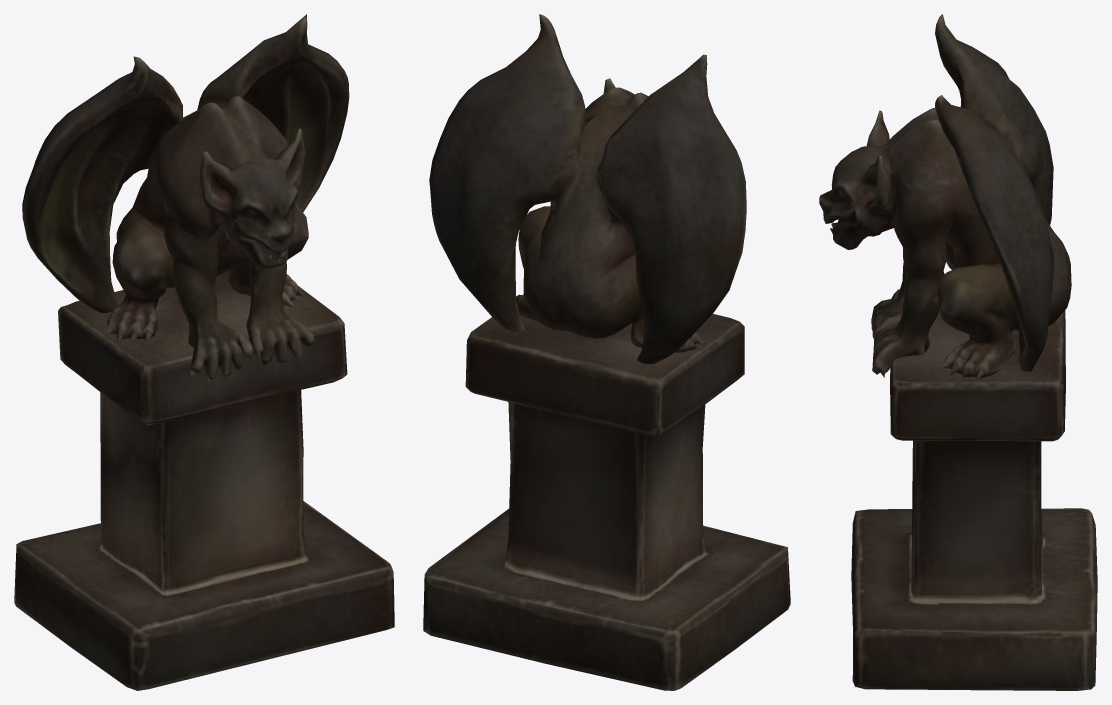
The model's file is dekor_gargoyle.glb.
3 views of the same model, side by side, from view 1: azimuth 30°, elevation 25°; view 2: azimuth 150°, elevation 25°; view 3: azimuth 270°, elevation 25° (orthographic). The views are drawn at different scales.
Parts seen in each view (by area): view 1: SM_gargoyle_T_Gargoyle_0; view 2: SM_gargoyle_T_Gargoyle_0; view 3: SM_gargoyle_T_Gargoyle_0.
Part boxes in pixels (left/top/right/bottom): SM_gargoyle_T_Gargoyle_0: left=14, top=14, right=394, bottom=690; SM_gargoyle_T_Gargoyle_0: left=423, top=14, right=790, bottom=690; SM_gargoyle_T_Gargoyle_0: left=819, top=14, right=1097, bottom=690.
Size of the model in its own units: 1.09 by 1.92 by 0.8439.
Materials: 1 (1 with a texture image).
